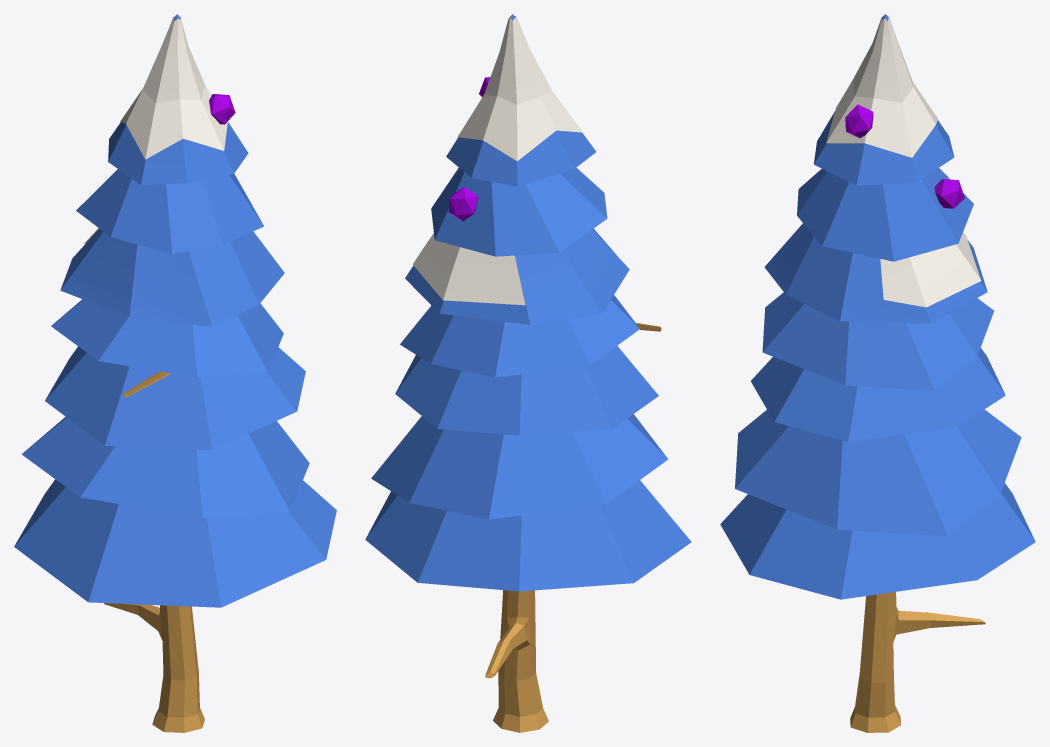
Rendered from Pine_Trees_Pack_Tree_stem_01.025.fbx.
3 renders of one model, left to right at view 1: azimuth 30°, elevation 25°; view 2: azimuth 150°, elevation 25°; view 3: azimuth 270°, elevation 25°, orthographic.
Parts seen in each view (by area): view 1: Pine_Trees_Pack_Tree_stem_01.025; view 2: Pine_Trees_Pack_Tree_stem_01.025; view 3: Pine_Trees_Pack_Tree_stem_01.025.
Part boxes in pixels (x1=…): Pine_Trees_Pack_Tree_stem_01.025: x1=14, y1=14, x2=336, y2=732; Pine_Trees_Pack_Tree_stem_01.025: x1=365, y1=14, x2=691, y2=732; Pine_Trees_Pack_Tree_stem_01.025: x1=720, y1=14, x2=1035, y2=732.
Size of the model in its own units: 296 by 711 by 287.
